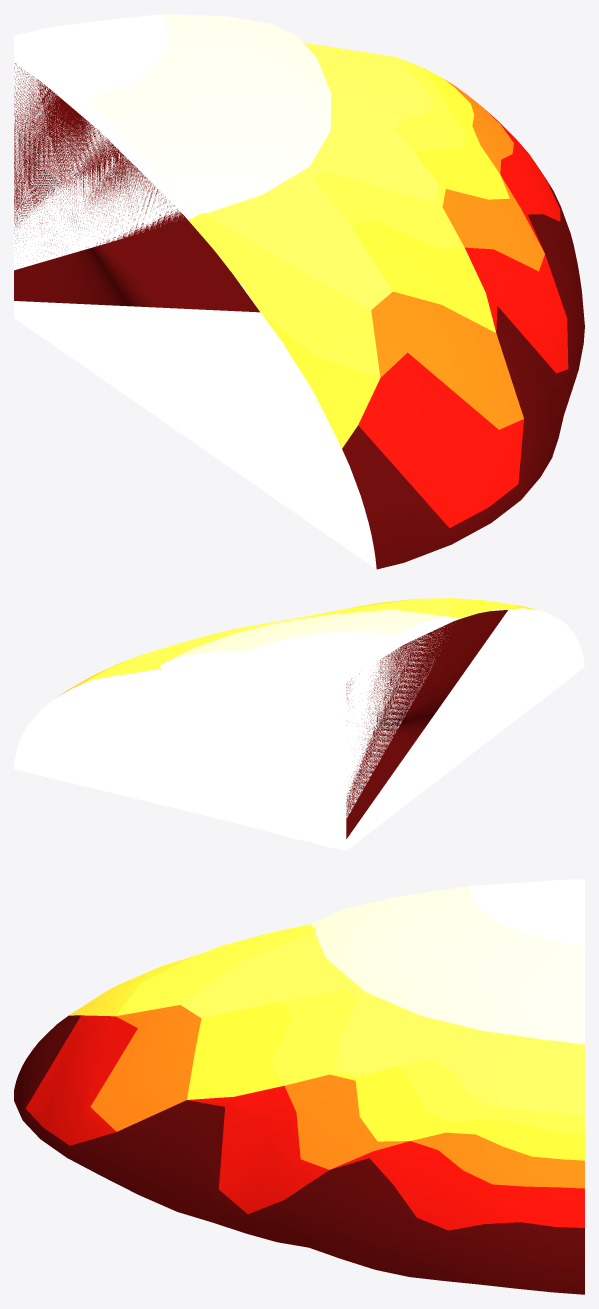
The model's file is shot_megacannon_b116.glb.
3 views of the same model, one above another, from view 1: azimuth 30°, elevation 25°; view 2: azimuth 150°, elevation 25°; view 3: azimuth 270°, elevation 25° (orthographic). The views are drawn at different scales.
Visible parts, largest first — view 1: megacannon_blast_yellow_b116, megacannon_blast_core_yellow_b116; view 2: megacannon_blast_yellow_b116, megacannon_blast_core_yellow_b116; view 3: megacannon_blast_yellow_b116, megacannon_blast_core_yellow_b116.
Part boxes in pixels (left/top/right/bottom): megacannon_blast_yellow_b116: left=14, top=42, right=584, bottom=569; megacannon_blast_core_yellow_b116: left=14, top=14, right=331, bottom=270; megacannon_blast_yellow_b116: left=14, top=598, right=584, bottom=850; megacannon_blast_core_yellow_b116: left=159, top=609, right=460, bottom=819; megacannon_blast_yellow_b116: left=14, top=924, right=584, bottom=1294; megacannon_blast_core_yellow_b116: left=311, top=879, right=584, bottom=1044.
Size of the model in its own units: 11.06 by 5.93 by 13.76.
